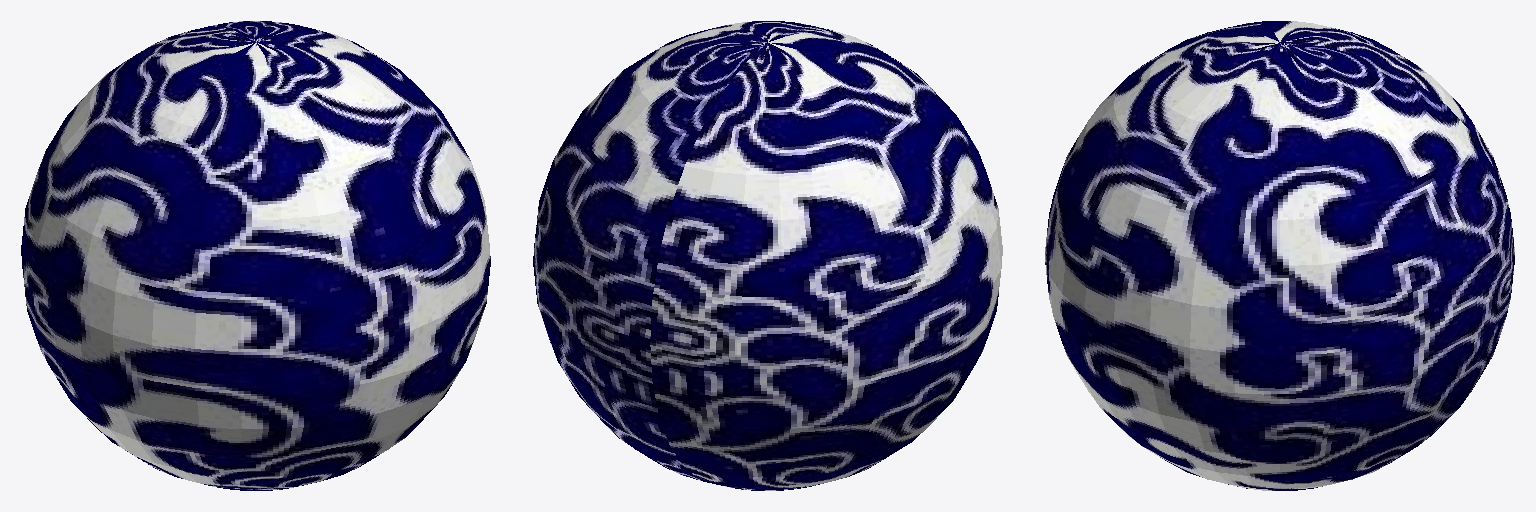
The picture shows the model from 3 angles: view 1: azimuth 30°, elevation 25°; view 2: azimuth 150°, elevation 25°; view 3: azimuth 270°, elevation 25°; orthographic projection.
Visible parts, largest first — view 1: Sphere001; view 2: Sphere001; view 3: Sphere001.
Part boxes in pixels (x1,y1,x2,y2): Sphere001: (21,21,490,490); Sphere001: (533,21,1002,490); Sphere001: (1045,21,1514,490).
Bounding box in the file's own units: 85.86 × 85.86 × 85.86.
Materials: 1 (1 with a texture image).